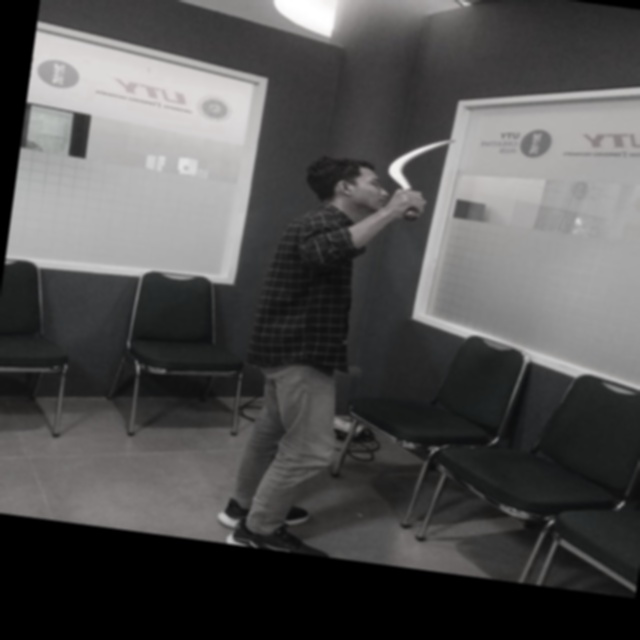Sharp-Object: (371, 128, 461, 231)
